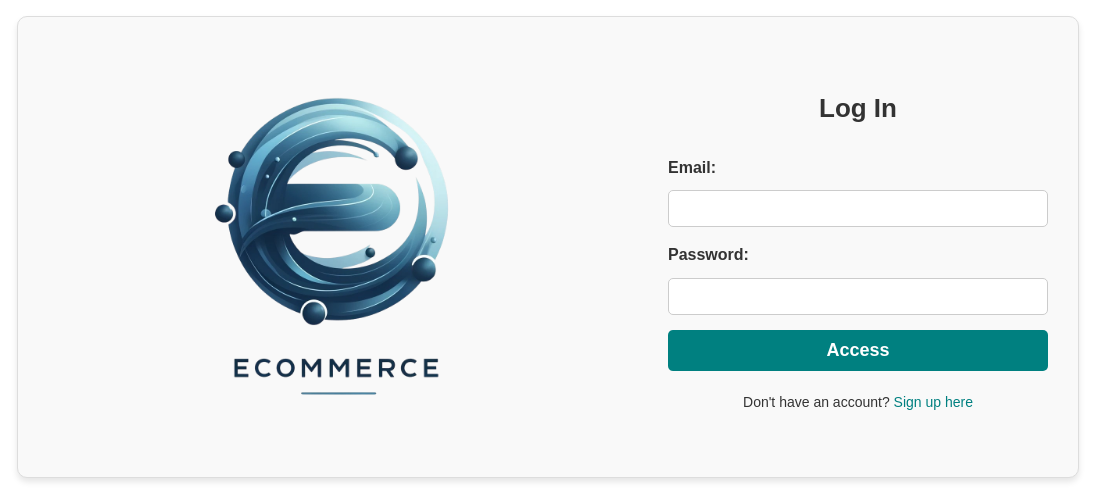
Test: LoginPage › debería mostrar un mensaje de error si falla el inicio de sesión
Type "test@example.com" into the field labelled "Email:" at x=858, y=209, box [668,190,1048,227]
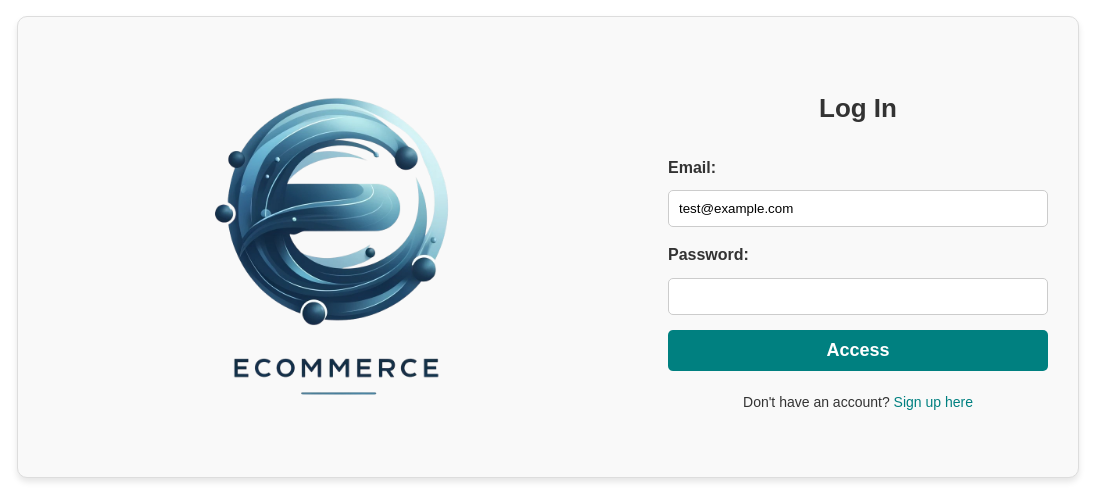
Type "wrongpassword" into the password field labelled "Password:" at x=858, y=296, box [668,278,1048,315]
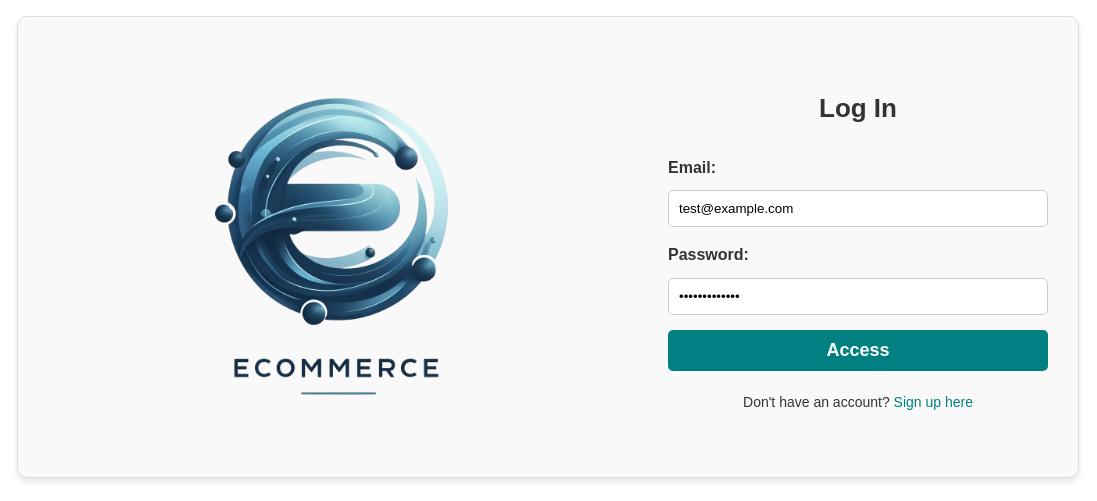
Click the button "Access" at x=858, y=350, box [668,330,1048,371]
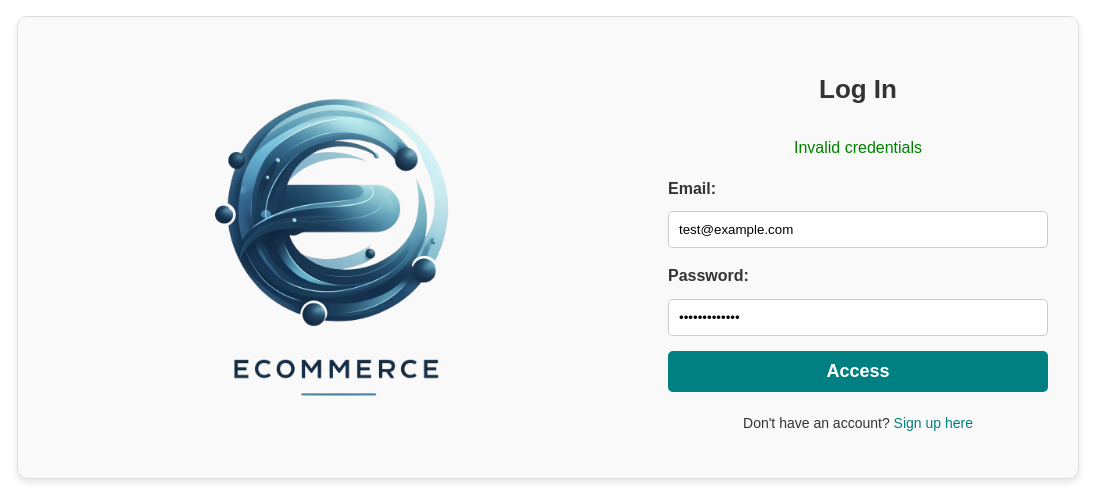
Now the text "Invalid credentials" is shown, box [794,139,922,156]
